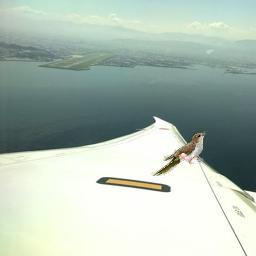Cuckoo: (151, 131, 208, 176)
